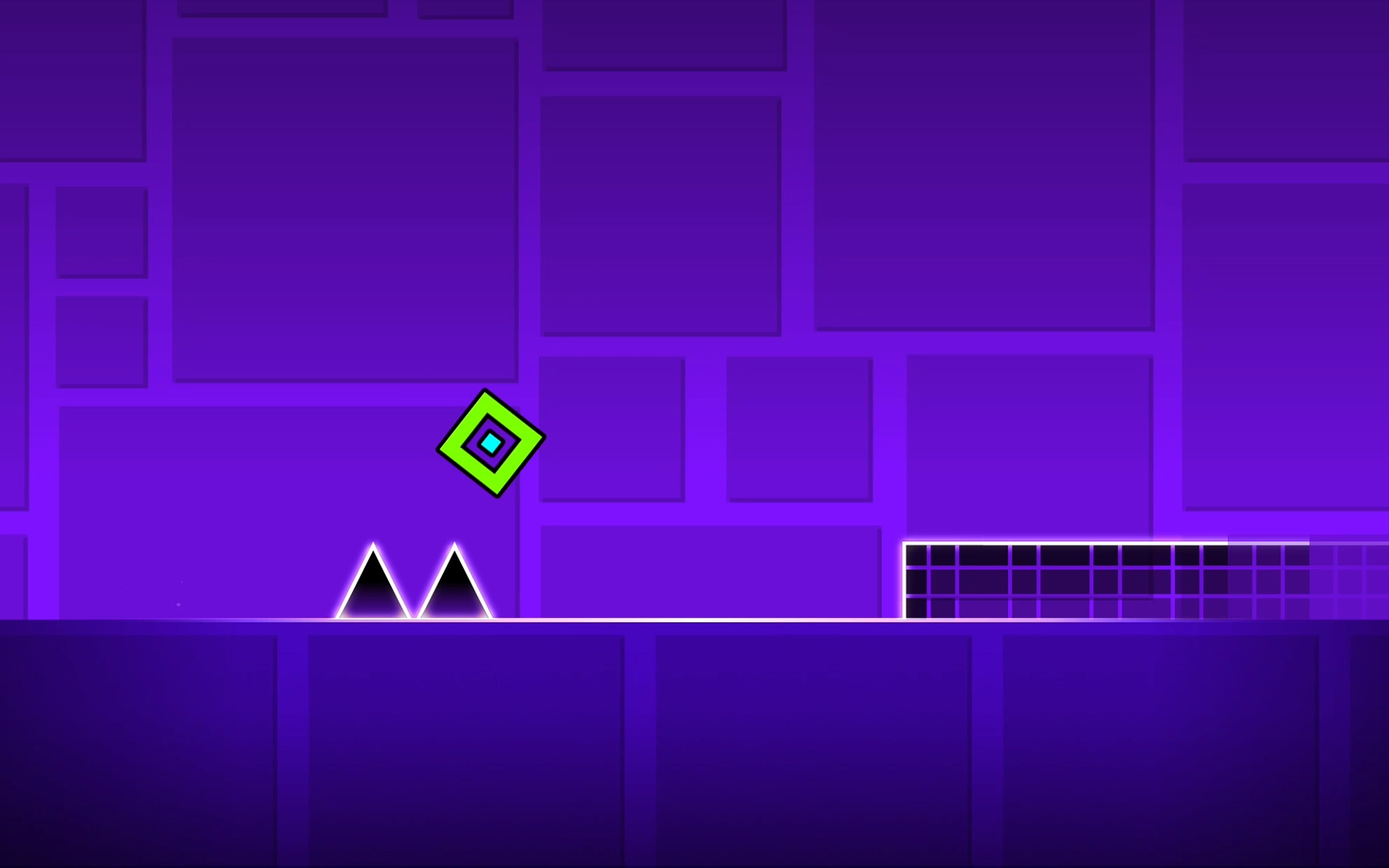Block2: (903, 540, 1389, 617)
Player: (435, 388, 546, 496)
Spike: (415, 542, 491, 619), (335, 542, 411, 618)
